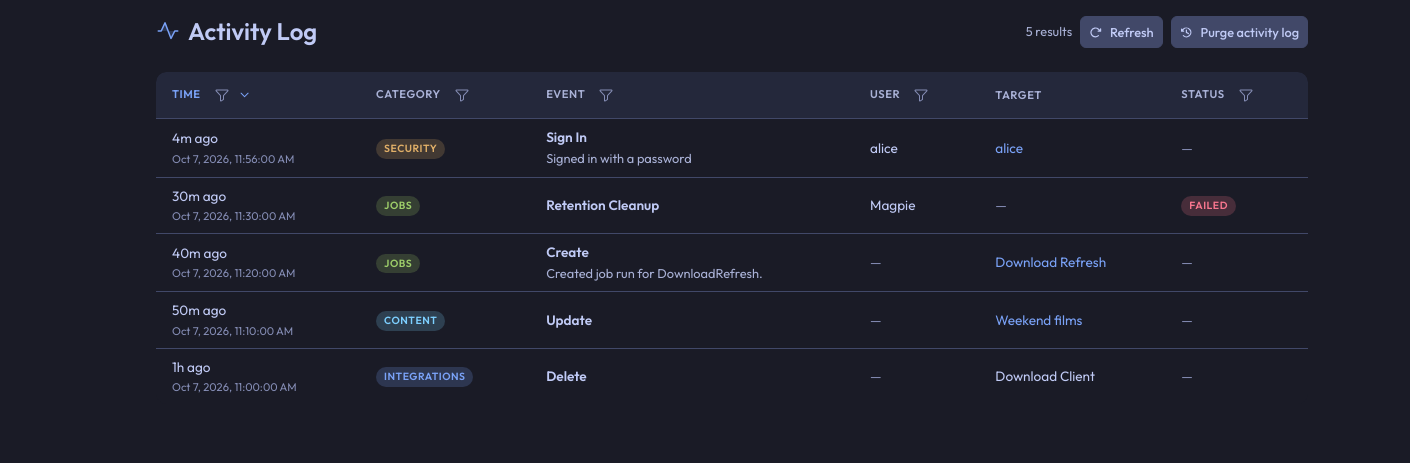
ActivityLogPage › WritesTheChoiceToTheUrl_WhenAColumnFilterIsChosen Status Cancelling
Expected: the cell "Magpie" is shown, 854,177 -> 979,233
Click the button named "Filter by Status". click: [1246, 95]
box: 1233,82 -> 1259,108
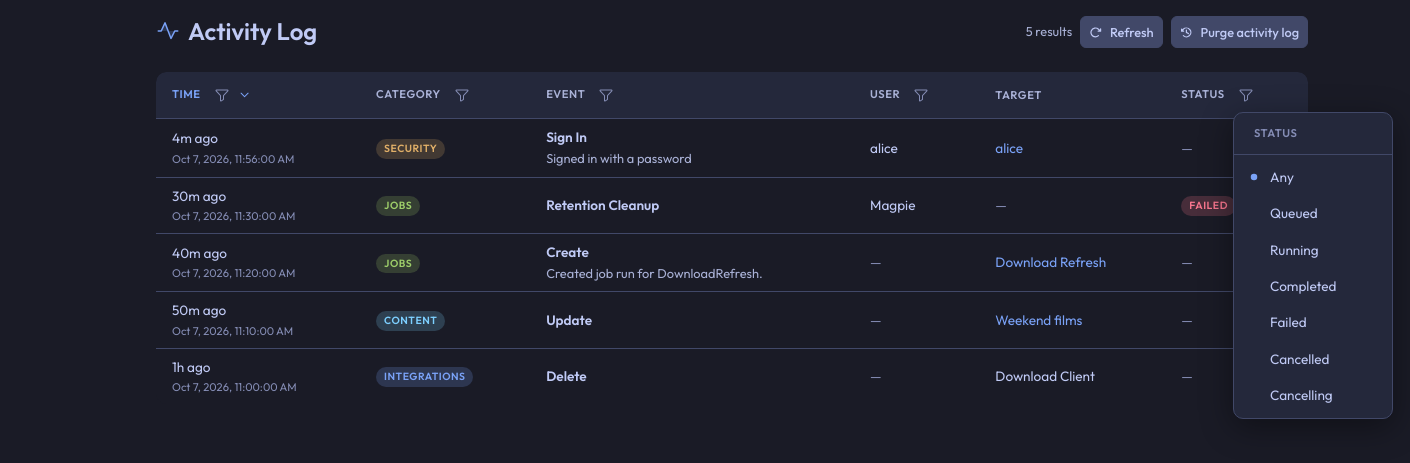
Click the menu item "Cancelling". click: [1301, 395]
box: 1270,386 -> 1333,404
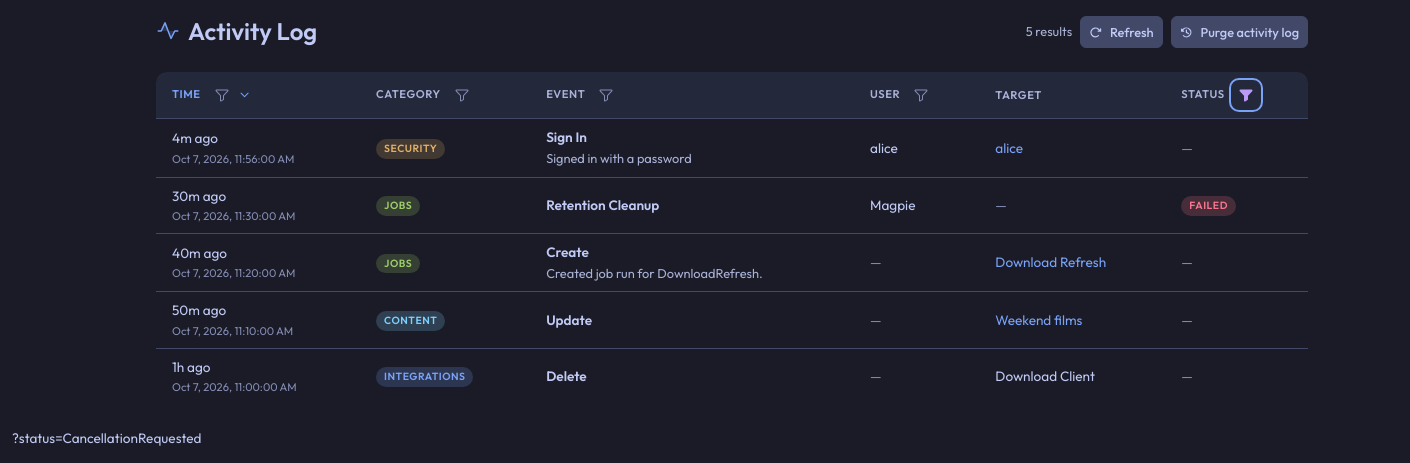
Now the text with test id "activity-log-page__location-search" reads "?status=CancellationRequested", box 12,429 -> 201,447
